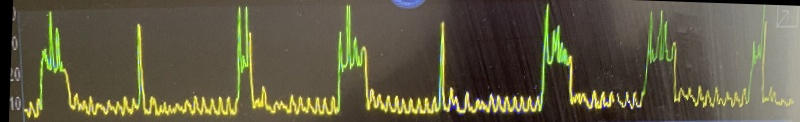hydrop_pressure: (13, 0, 787, 122)
